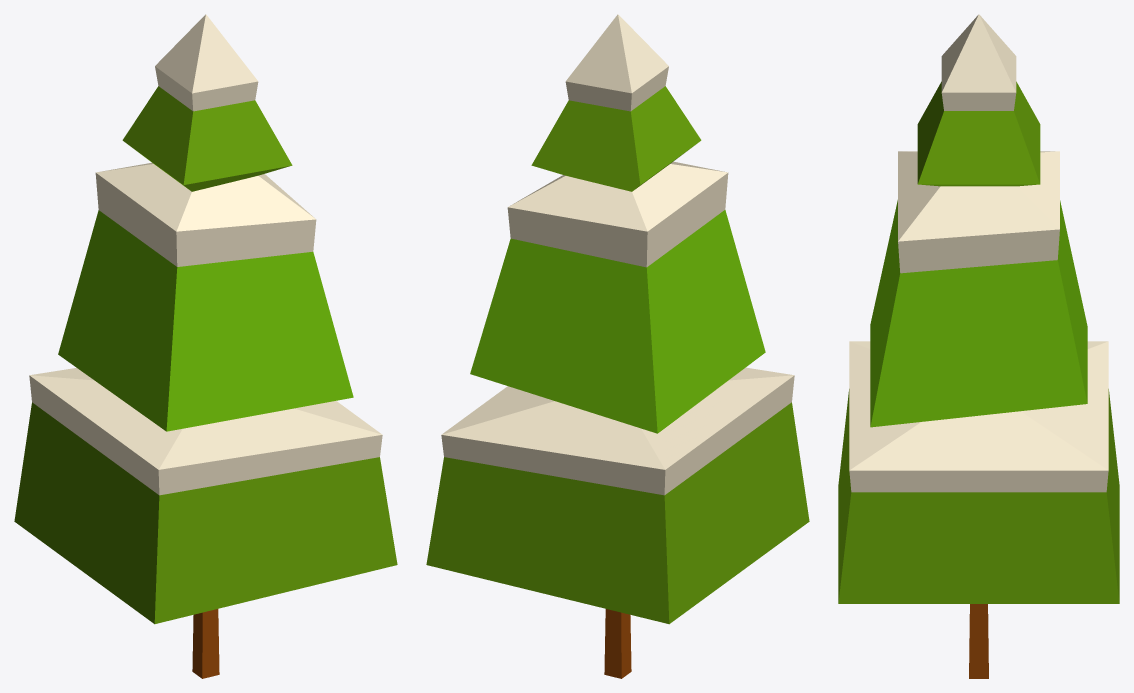
The model's file is Tree_37_Winter.fbx.
The picture shows the model from 3 angles, left to right: view 1: azimuth 30°, elevation 25°; view 2: azimuth 150°, elevation 25°; view 3: azimuth 270°, elevation 25°; orthographic projection.
Parts seen in each view (by area): view 1: Tree_37_Winter; view 2: Tree_37_Winter; view 3: Tree_37_Winter.
Part boxes in pixels (<box>): Tree_37_Winter: <box>14,14,397,678</box>; Tree_37_Winter: <box>426,14,809,678</box>; Tree_37_Winter: <box>838,14,1119,678</box>.
Bounding box in the file's own units: 200 × 519 × 200.
